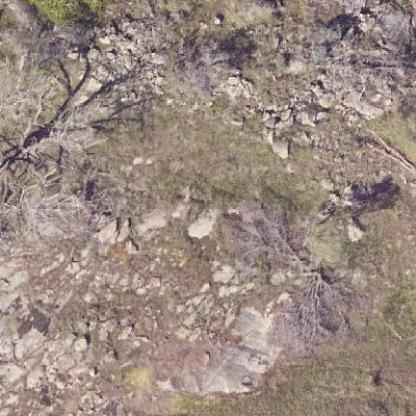tree-top: (7, 0, 97, 66), (166, 40, 247, 108)
